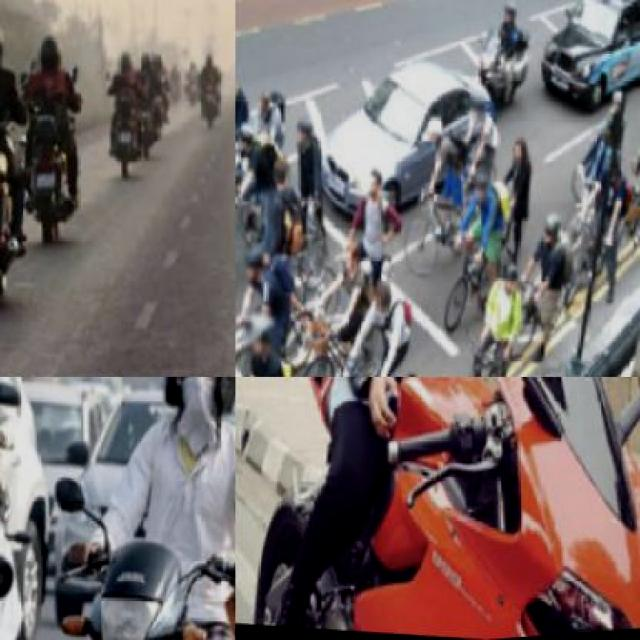With Helmet: (144, 377, 233, 435), (21, 26, 64, 88), (236, 306, 276, 366), (236, 242, 266, 296), (489, 264, 517, 307), (463, 173, 488, 216), (104, 47, 131, 85), (534, 213, 558, 255), (462, 95, 486, 132), (288, 118, 312, 154), (500, 4, 517, 30)
Without Helmet: (350, 158, 388, 211), (364, 282, 387, 320)
